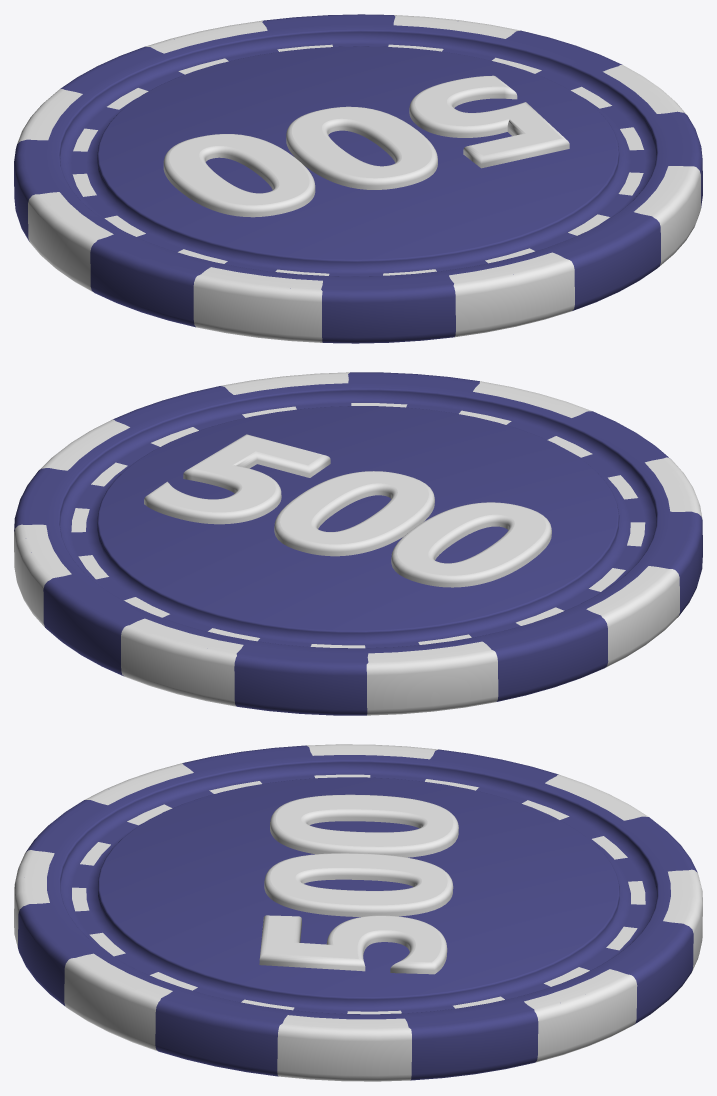
The picture shows the model from 3 angles, top to bottom: view 1: azimuth 30°, elevation 25°; view 2: azimuth 150°, elevation 25°; view 3: azimuth 270°, elevation 25°; orthographic projection.
Visible parts, largest first — view 1: Mesh_3007_2, Mesh_3007_3, Mesh_3007; view 2: Mesh_3007_2, Mesh_3007_3, Mesh_3007; view 3: Mesh_3007_2, Mesh_3007_3, Mesh_3007.
Boxes of the visible parts, x1,y1,x2,y2 form: Mesh_3007_2: (14,14,702,343); Mesh_3007_3: (17,15,700,342); Mesh_3007: (163,75,569,217); Mesh_3007_2: (14,372,702,715); Mesh_3007_3: (14,372,702,715); Mesh_3007: (144,434,551,587); Mesh_3007_2: (18,745,697,1080); Mesh_3007_3: (14,744,702,1081); Mesh_3007: (259,794,458,974).
Size of the model in its own units: 0.0802 by 0.00941 by 0.0802.
